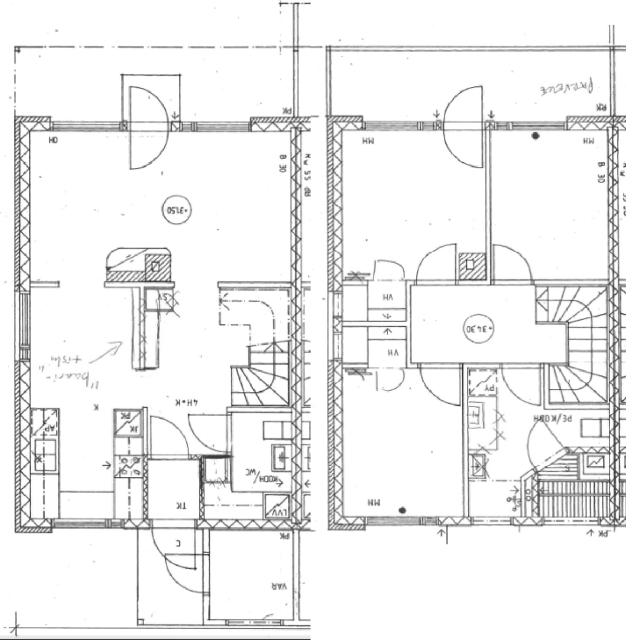door: (439, 82, 487, 171), (125, 82, 171, 172), (412, 238, 460, 287), (489, 238, 536, 287), (145, 411, 191, 461), (418, 361, 463, 409), (502, 361, 545, 410), (188, 411, 235, 455), (164, 550, 208, 596), (444, 126, 486, 171), (371, 257, 408, 284), (375, 366, 406, 394)
window: (11, 286, 36, 363), (46, 117, 122, 137), (360, 116, 429, 137), (189, 118, 252, 138), (504, 117, 568, 135), (362, 515, 425, 533), (50, 516, 110, 534), (468, 514, 514, 532), (223, 616, 268, 631)
zone: (334, 127, 486, 283), (27, 348, 143, 527), (334, 367, 466, 524), (487, 128, 613, 285), (11, 530, 143, 632), (407, 284, 549, 365), (203, 529, 296, 625), (331, 279, 413, 370), (224, 410, 297, 500), (525, 410, 614, 480), (217, 290, 291, 363), (531, 477, 617, 524), (144, 458, 202, 526), (465, 478, 527, 525)
